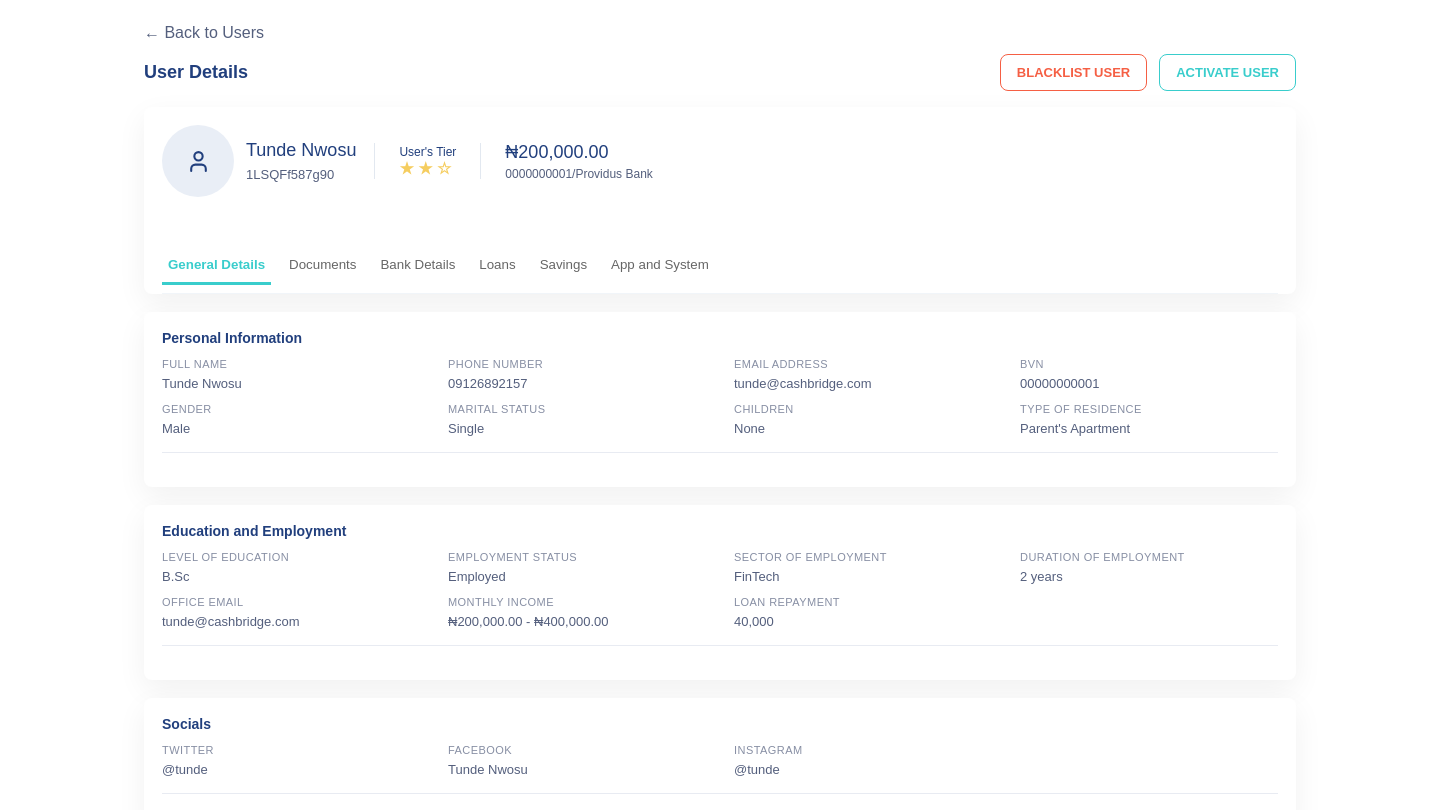
Test: UserDetailsPage › switches tabs when clicking tab buttons
Check: the text "User Details" is shown, box [144, 62, 248, 83]
Click the button "Documents" at (323, 266), box [283, 247, 362, 285]
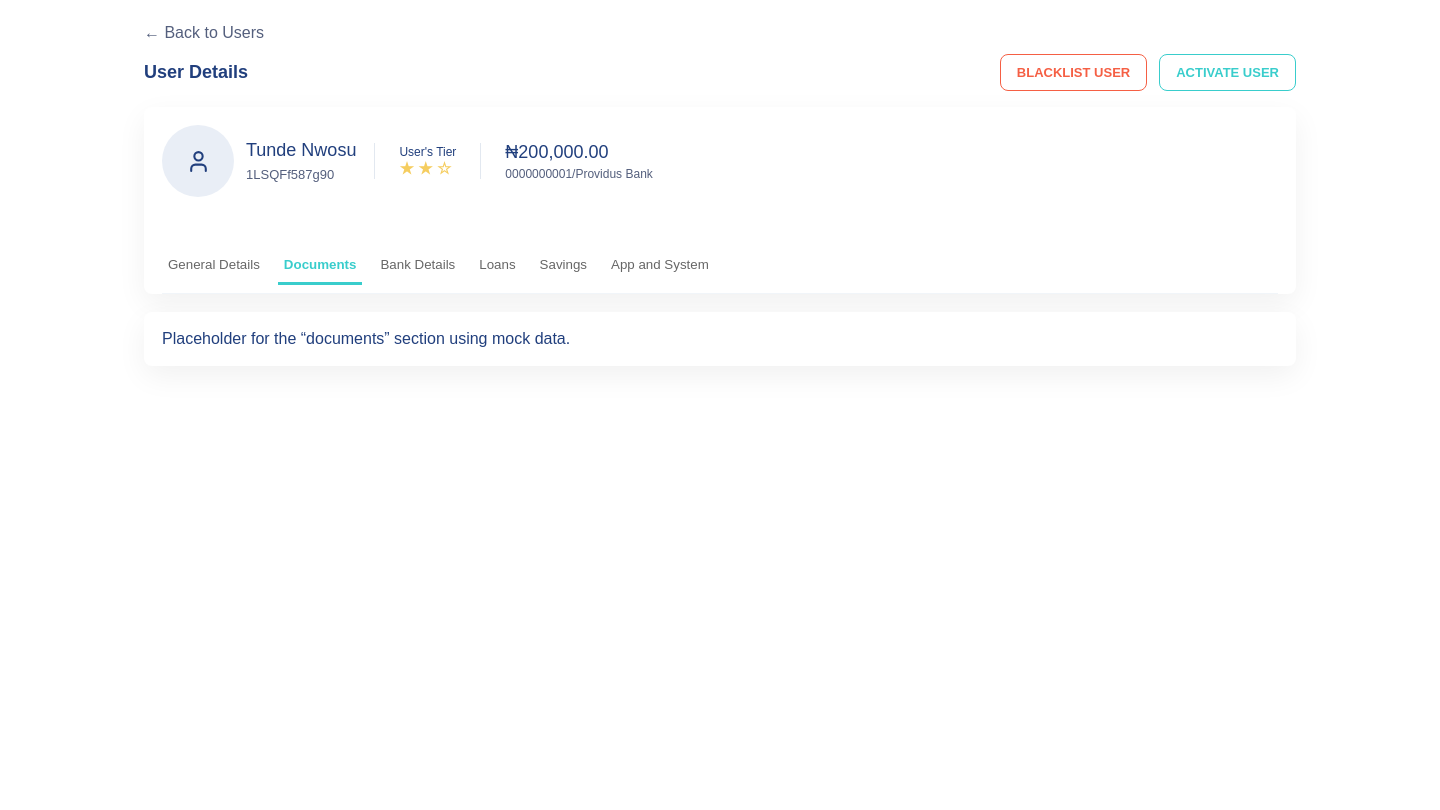
Check: the text "Placeholder for the “documents” section using mock data." is shown, box [162, 330, 570, 347]
